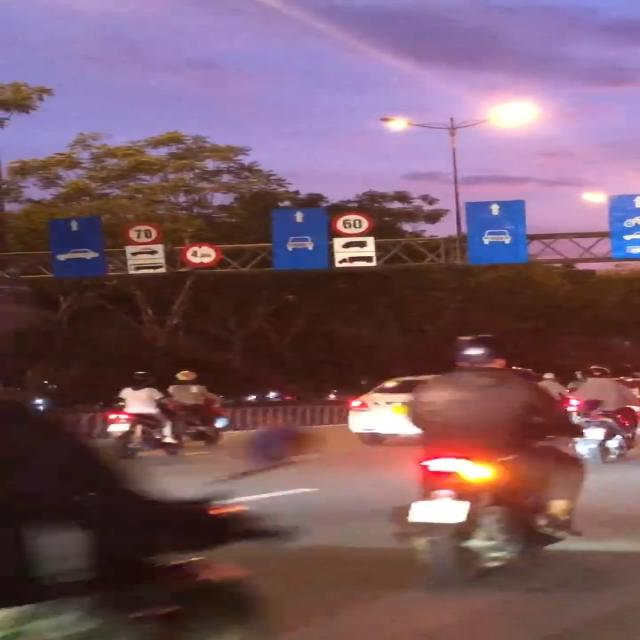Bien bao toc do toi da cho phep: (117, 222, 164, 248), (331, 211, 377, 236)
